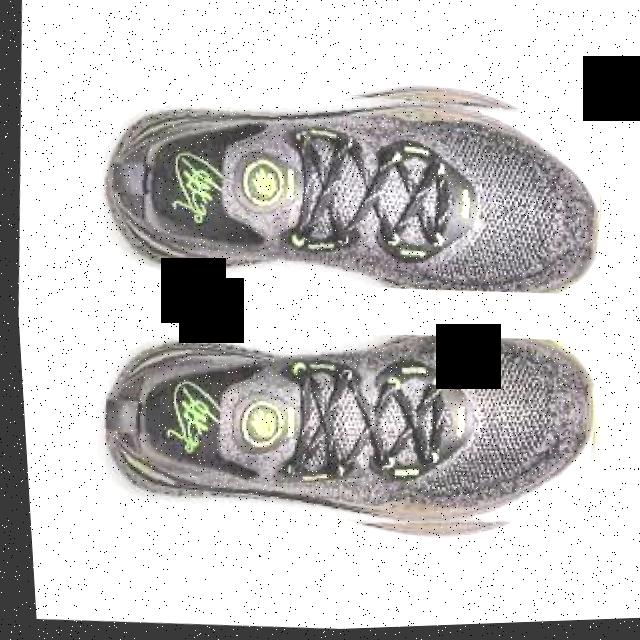shoe: (90, 61, 610, 313), (88, 311, 602, 561)
